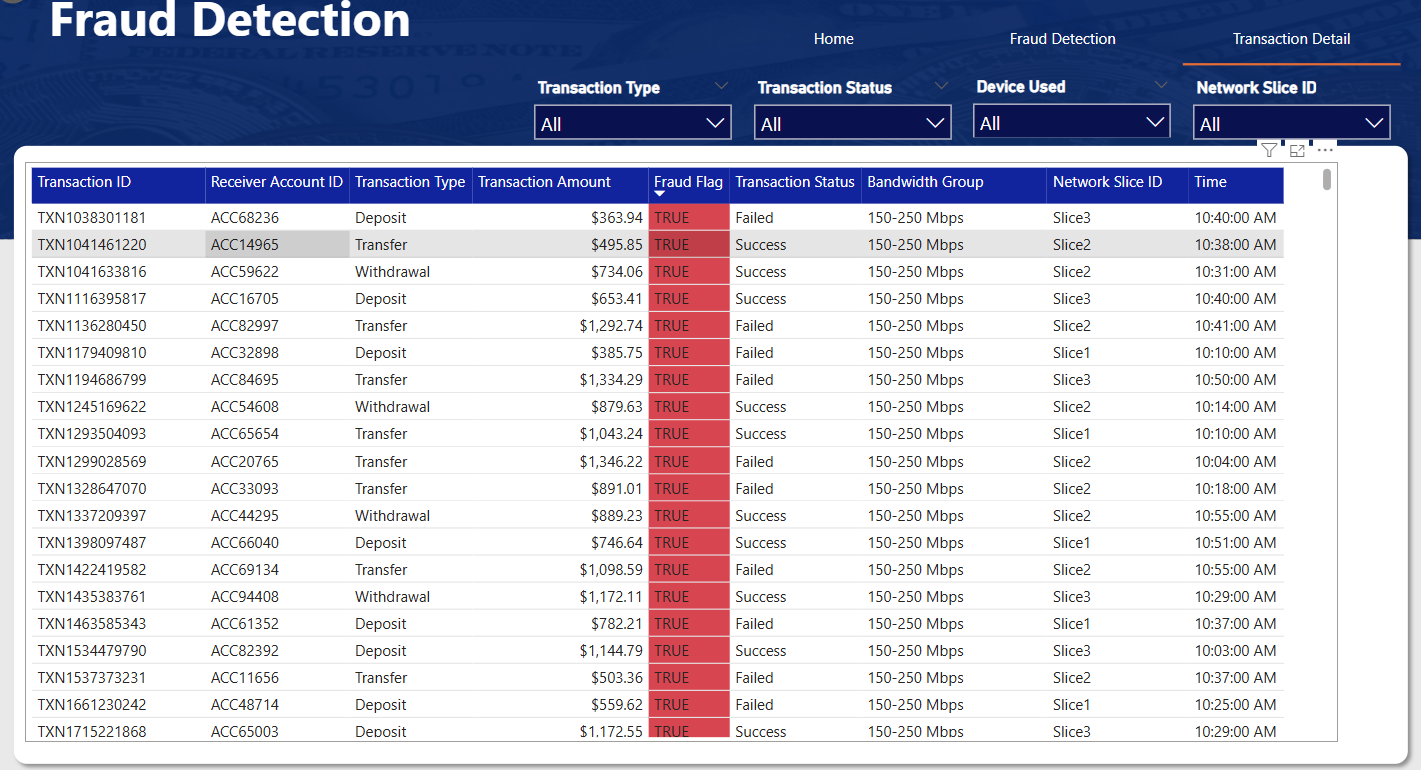

The page's visual inventory and layout, read from the dashboard file:
{"tool":"powerbi","page":{"name":"Transaction Detail","canvas":[1280,720],"ordinal":2},"visuals":[{"type":"tableEx","fields":{"Values":["bank transaction_data.Transaction ID","bank transaction_data.Receiver Account ID","bank transaction_data.Transaction Type","Sum(bank transaction_data.Transaction Amount)","bank transaction_data.Fraud Flag","bank transaction_data.Transaction Status","bank transaction_data.Bandwidth Group","bank transaction_data.Network Slice ID","bank transaction_data.Time"]},"box":[30.9,175.3,1164.2,514.8],"z":0},{"type":"slicer","fields":{"Values":["bank transaction_data.Network Slice ID"]},"box":[1057.4,96.4,194.5,60],"z":1000},{"type":"slicer","fields":{"Values":["bank transaction_data.Device Used"]},"box":[861.9,95.5,195.5,58.2],"z":2000},{"type":"slicer","fields":{"Values":["bank transaction_data.Transaction Status"]},"box":[667.4,96.4,194.5,60],"z":3000},{"type":"slicer","fields":{"Values":["bank transaction_data.Transaction Type"]},"box":[472.8,96.4,194.5,60],"z":4000},{"type":"textbox","box":[46.9,12.7,446,82.5],"z":5000},{"type":"actionButton","box":[0,0,100,40],"z":6000},{"type":"pageNavigator","box":[651.9,39.5,600,50.6],"z":7000}]}

Visuals, with their boxes on the page's 1280x720 design canvas (x1, y1, x2, y2). These are canvas units, not pixel positions in the 1421x770 screenshot, which may show the page scaled, cropped or inside an application window:
tableEx - bank transaction_data.Transaction ID x bank transaction_data.Receiver Account ID: {"left": 31, "top": 175, "right": 1195, "bottom": 690}
slicer - bank transaction_data.Network Slice ID: {"left": 1057, "top": 96, "right": 1252, "bottom": 156}
slicer - bank transaction_data.Device Used: {"left": 862, "top": 96, "right": 1057, "bottom": 154}
slicer - bank transaction_data.Transaction Status: {"left": 667, "top": 96, "right": 862, "bottom": 156}
slicer - bank transaction_data.Transaction Type: {"left": 473, "top": 96, "right": 667, "bottom": 156}
textbox: {"left": 47, "top": 13, "right": 493, "bottom": 95}
actionButton: {"left": 0, "top": 0, "right": 100, "bottom": 40}
pageNavigator: {"left": 652, "top": 40, "right": 1252, "bottom": 90}
